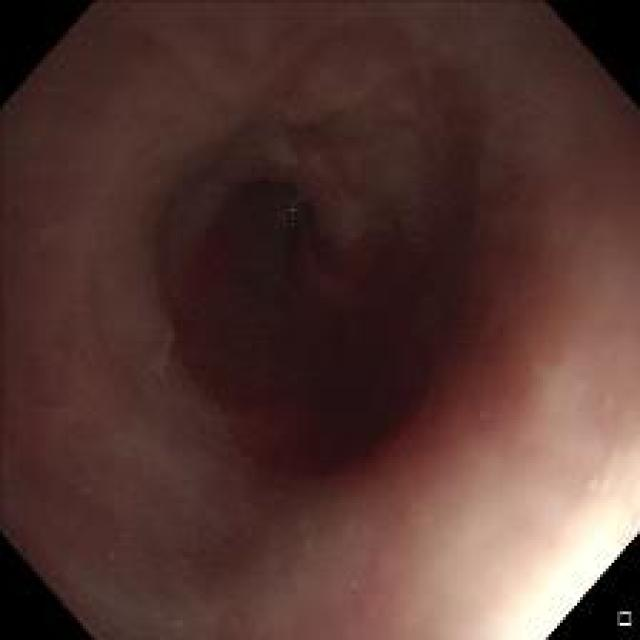contrast: (2, 2, 399, 630), (370, 2, 635, 338)
saturation: (520, 522, 605, 629)
specularity: (289, 196, 305, 212)
